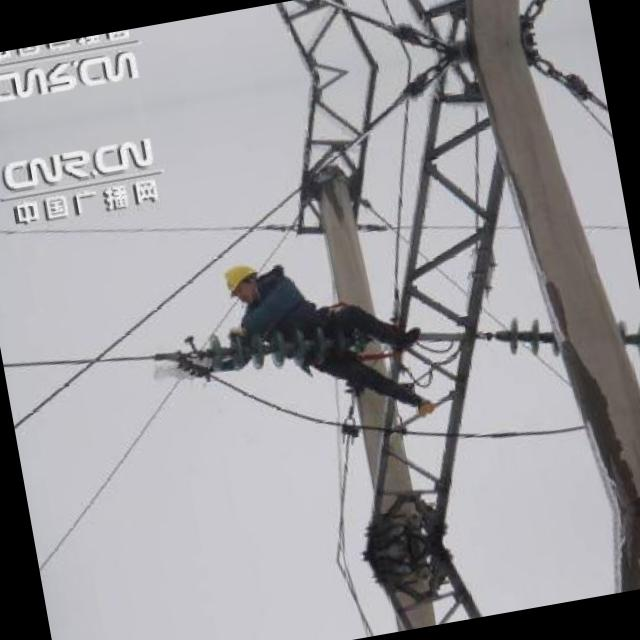helmet: (216, 255, 266, 306)
